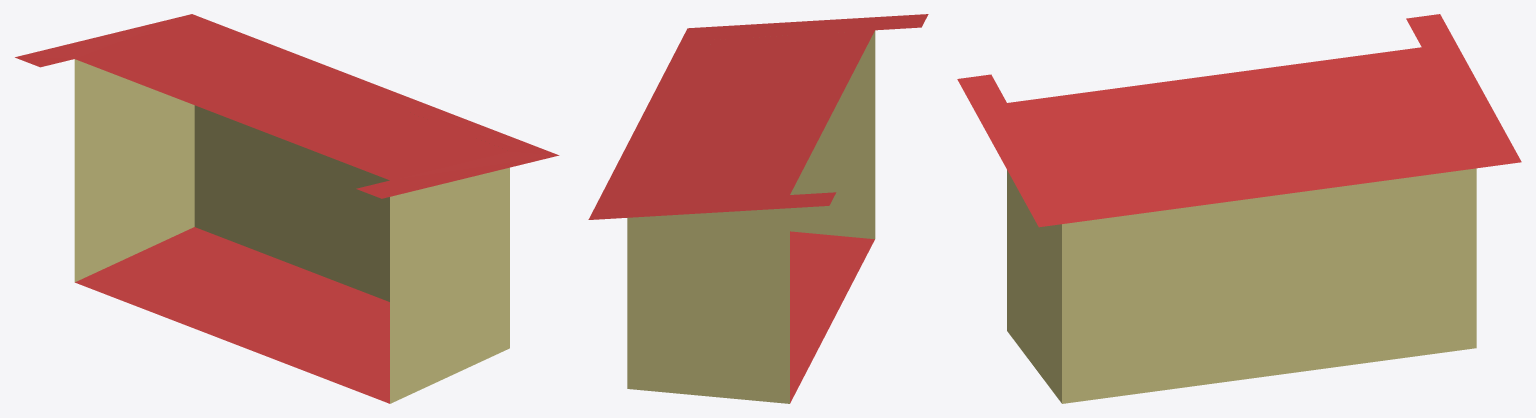
3 views of the same model, side by side, from view 1: azimuth 30°, elevation 25°; view 2: azimuth 150°, elevation 25°; view 3: azimuth 270°, elevation 25° (orthographic). The views are drawn at different scales.
Bounding box in the file's own units: 8.58 × 11.8 × 5.43.
